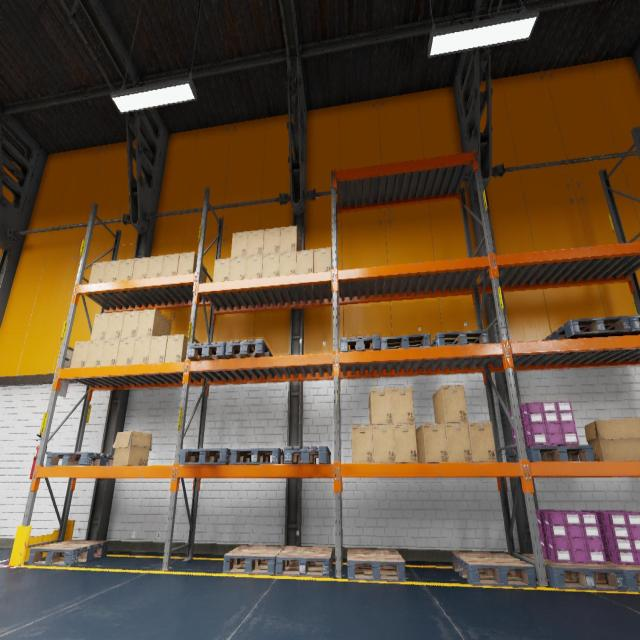box: (584, 417, 640, 461), (432, 384, 468, 422), (112, 431, 152, 465), (416, 423, 448, 462), (468, 422, 497, 462), (445, 423, 472, 462), (136, 309, 171, 337), (394, 424, 418, 463), (177, 252, 207, 283), (372, 425, 396, 463), (391, 387, 415, 424), (351, 425, 374, 463), (369, 388, 393, 424), (165, 334, 188, 362), (280, 225, 301, 253), (148, 336, 168, 364), (90, 313, 110, 341), (116, 338, 136, 365), (100, 339, 120, 366), (85, 340, 105, 367), (120, 311, 140, 338), (105, 312, 125, 339), (132, 336, 151, 364), (70, 341, 90, 367), (247, 229, 264, 256), (231, 231, 248, 258), (314, 247, 332, 272), (296, 249, 314, 274), (263, 228, 280, 254), (279, 251, 296, 276), (245, 255, 263, 278), (262, 253, 279, 277), (117, 258, 135, 280), (147, 255, 164, 278), (229, 257, 246, 280), (213, 258, 230, 281), (162, 254, 179, 276), (132, 257, 149, 279), (103, 260, 120, 282), (89, 262, 106, 284)
pallets: (520, 554, 626, 592), (451, 552, 537, 588), (542, 315, 631, 340), (27, 540, 108, 566), (222, 544, 286, 576), (347, 549, 406, 582), (276, 546, 332, 578), (505, 446, 595, 462), (604, 561, 640, 592), (45, 452, 114, 466), (225, 339, 273, 358), (430, 331, 490, 346), (179, 448, 231, 465), (380, 333, 431, 350), (230, 448, 284, 464), (284, 446, 330, 464), (187, 342, 228, 361), (340, 334, 380, 352), (625, 314, 640, 334)
